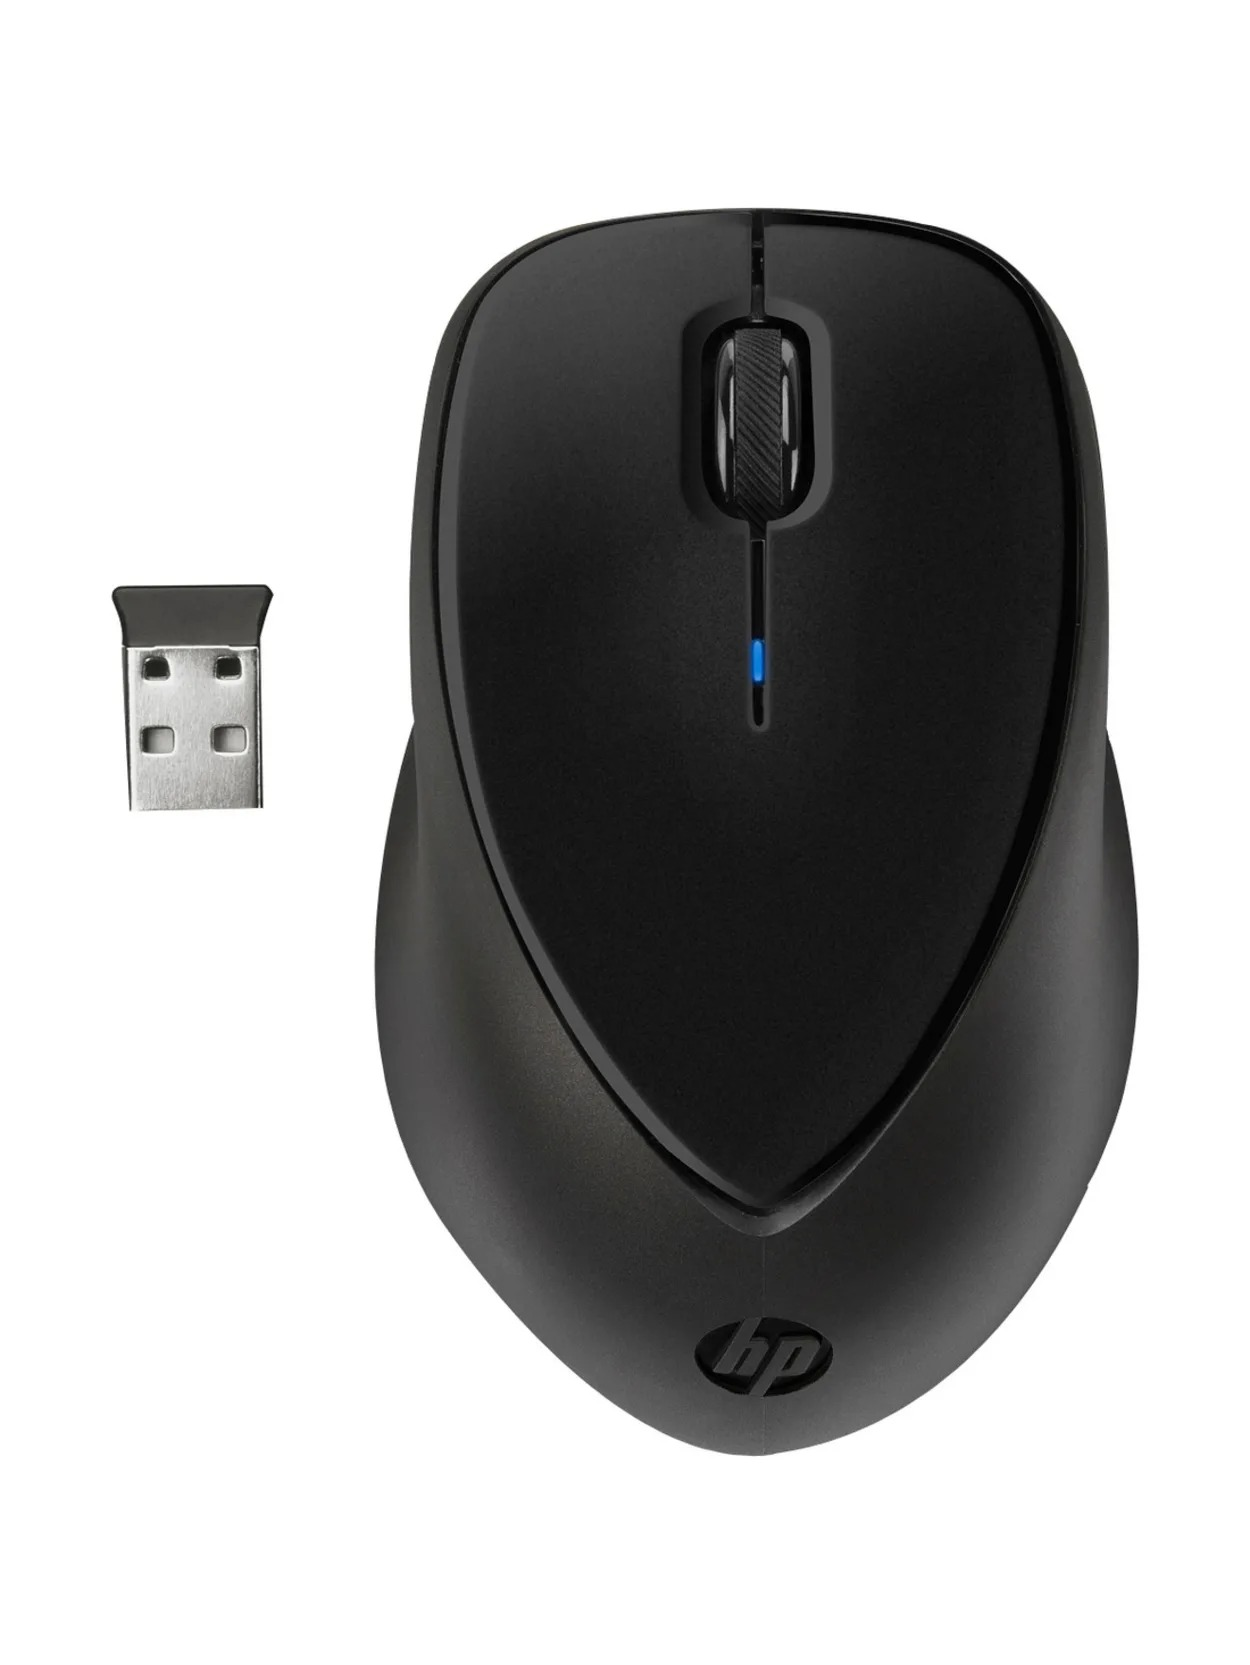mouse: (345, 205, 1174, 1480)
